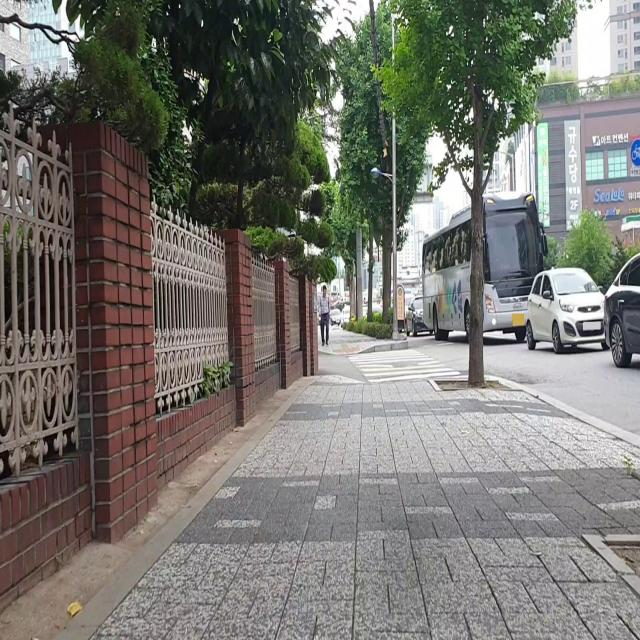횡단보도: (346, 349, 462, 384)
